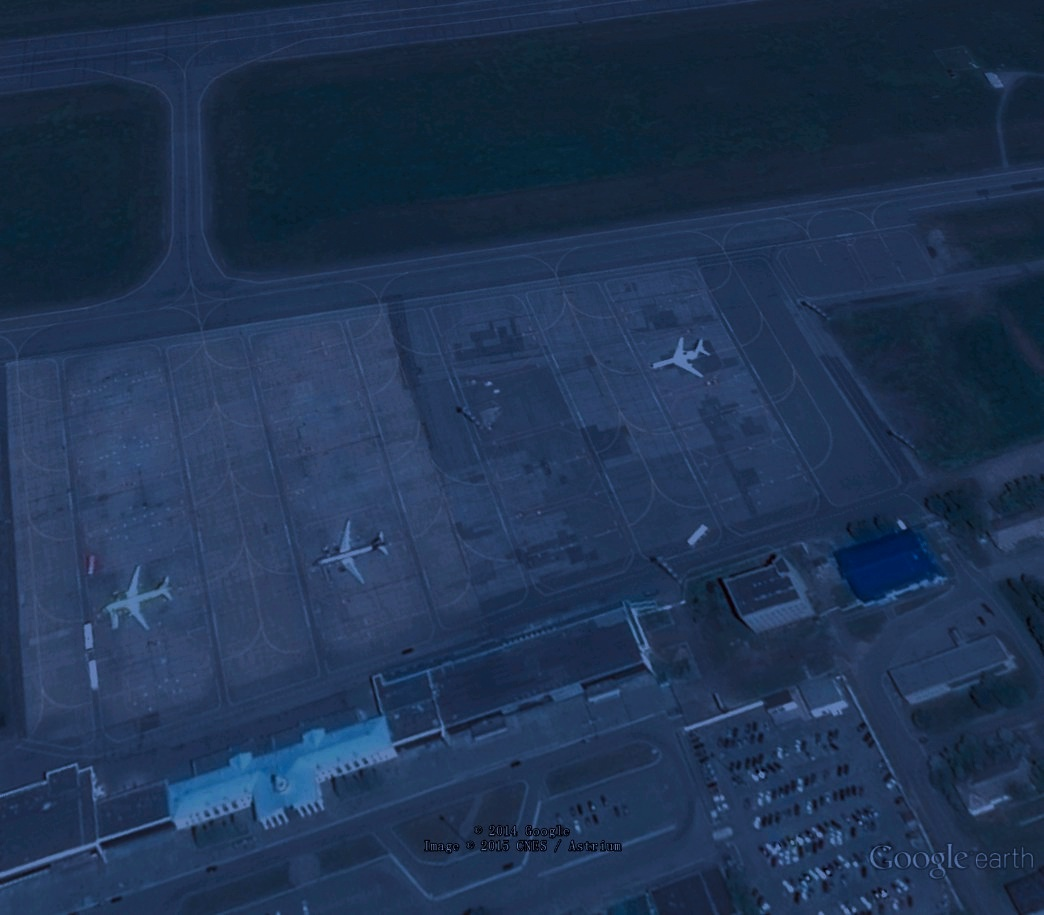aircraft: (310, 514, 393, 588), (97, 561, 175, 637), (649, 333, 717, 385)
